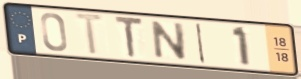0: (39, 11, 70, 53)
1: (229, 26, 255, 69)
I: (194, 21, 207, 65)
N: (150, 19, 189, 62)
T: (72, 11, 109, 58), (113, 15, 146, 60)
